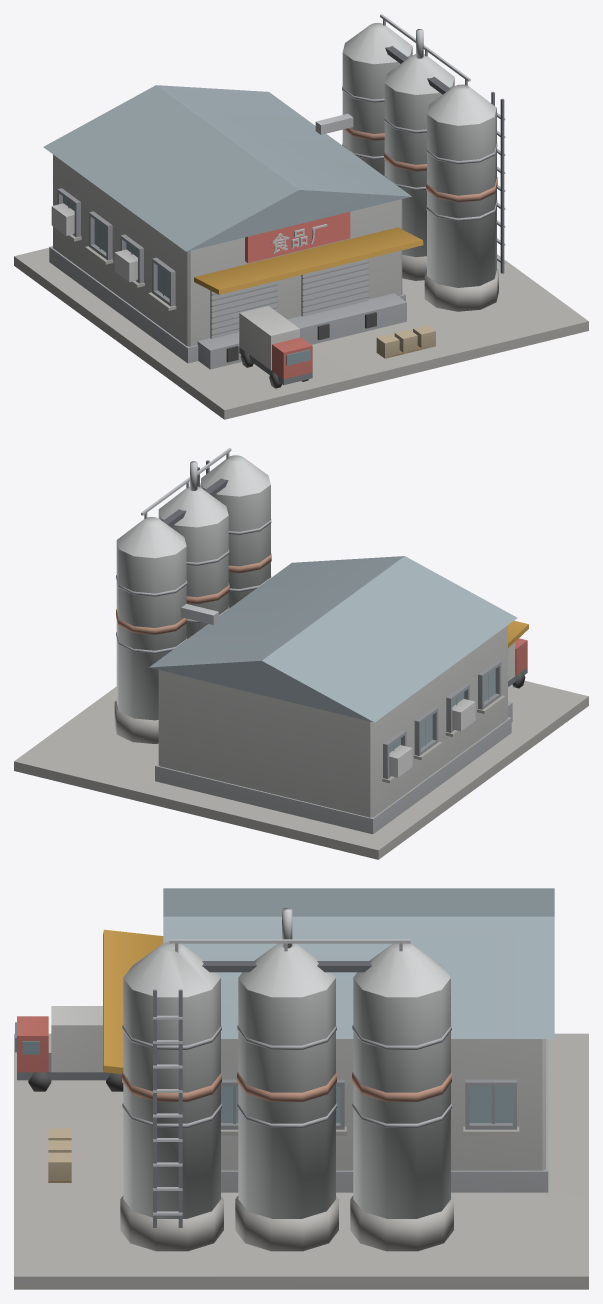
The model's file is food-factory.glb.
3 views of the same model, one above another, from view 1: azimuth 30°, elevation 25°; view 2: azimuth 150°, elevation 25°; view 3: azimuth 270°, elevation 25° (orthographic). The views are drawn at different scales.
Visible parts, largest first — view 1: food-factory; view 2: food-factory; view 3: food-factory.
Part boxes in pixels (x1,y1,x2,y2): food-factory: [14, 14, 588, 419]; food-factory: [14, 448, 588, 859]; food-factory: [14, 888, 588, 1289].
Bounding box in the file's own units: 2 × 1.28 × 2.
